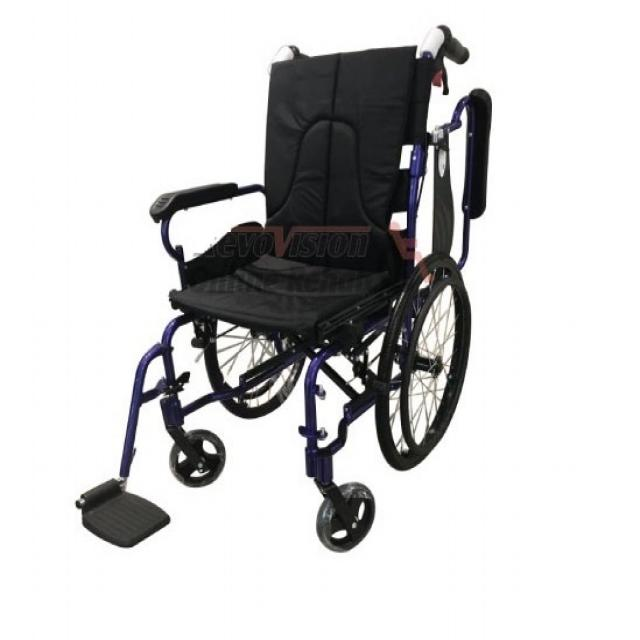wheelchair: (72, 18, 512, 574)
